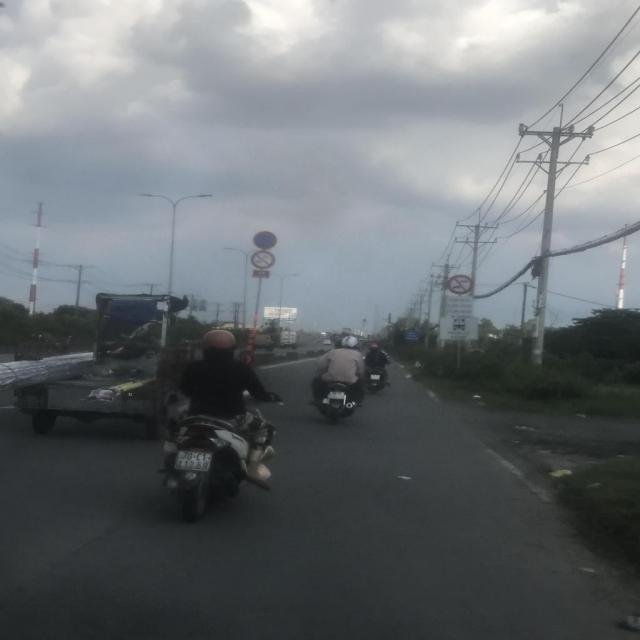cam_dung_xe_va_do_xe: (253, 230, 277, 248)
cam_o_to_tai_va_xe_khach: (446, 274, 474, 296)
cam_xe_2_banh_va_xe_3_banh_co_dong_co: (250, 251, 275, 269)
khac: (439, 318, 478, 339), (446, 296, 473, 316)
